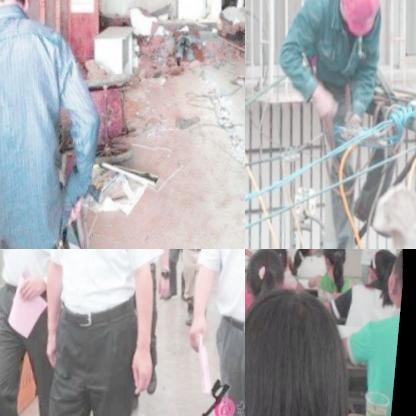head: (245, 262, 377, 416), (245, 249, 291, 301), (365, 249, 400, 282), (323, 249, 353, 268)
helmet: (333, 0, 388, 33)
